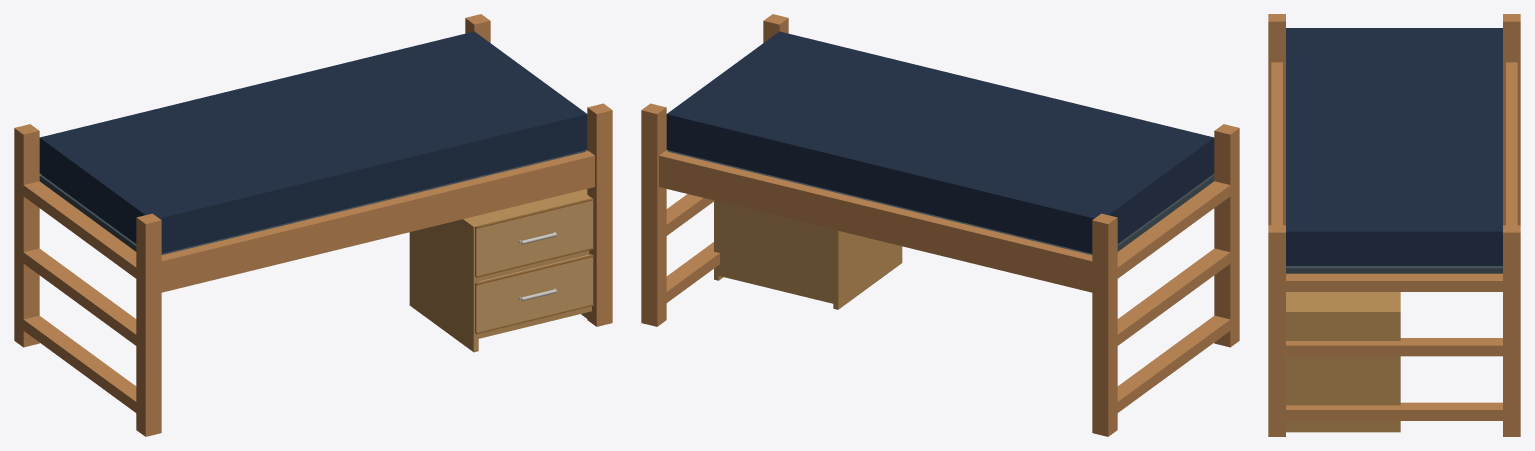
File: bed_drawer-Wgb0UZA8.glb
3 views of the same model, side by side, from view 1: azimuth 30°, elevation 25°; view 2: azimuth 150°, elevation 25°; view 3: azimuth 270°, elevation 25° (orthographic). The views are drawn at different scales.
Bounding box in the file's own units: 2.18 × 0.95 × 1.06.
